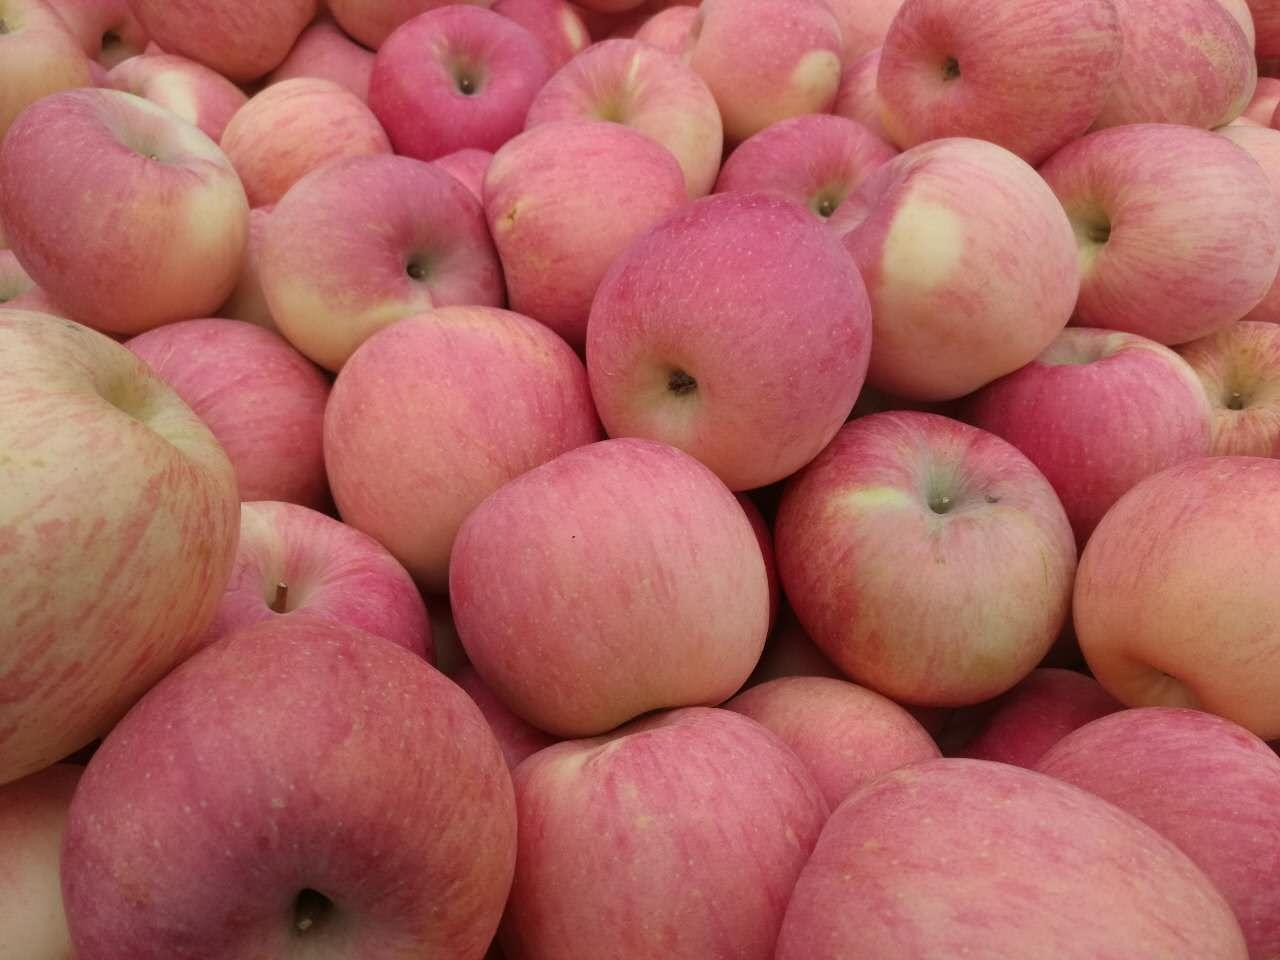apple: (58, 610, 514, 956), (1, 312, 232, 781), (445, 437, 773, 735), (774, 758, 1251, 960), (511, 682, 833, 960), (775, 413, 1077, 708), (587, 193, 877, 487), (322, 306, 600, 579), (824, 135, 1083, 405), (1, 63, 250, 312), (1070, 450, 1278, 734), (260, 151, 509, 370), (1040, 122, 1278, 348), (487, 118, 691, 327), (126, 315, 332, 516), (869, 2, 1121, 156), (524, 37, 720, 190), (363, 5, 542, 157)
